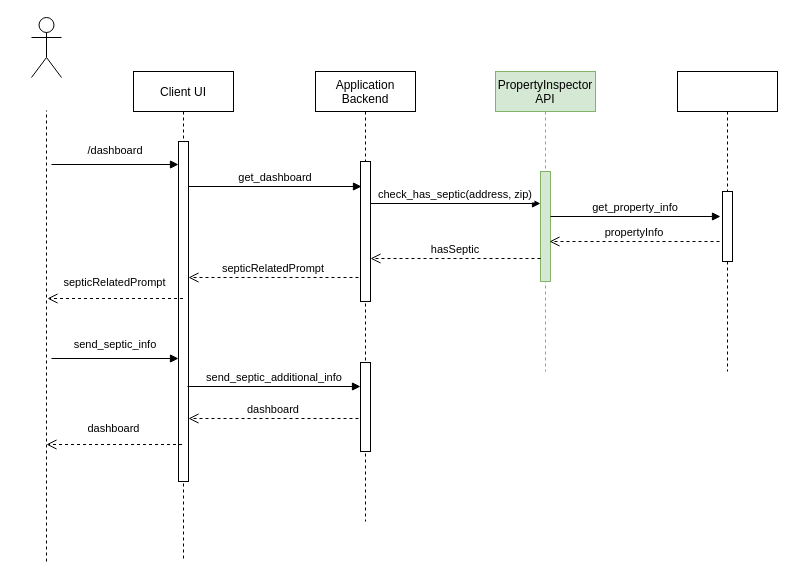
This 795x580 diagram has some shape labels left out. Each missing label, with the centre of its shape:
Customer / Prospect: [46,47]
External Property Data Service: [727,221]
